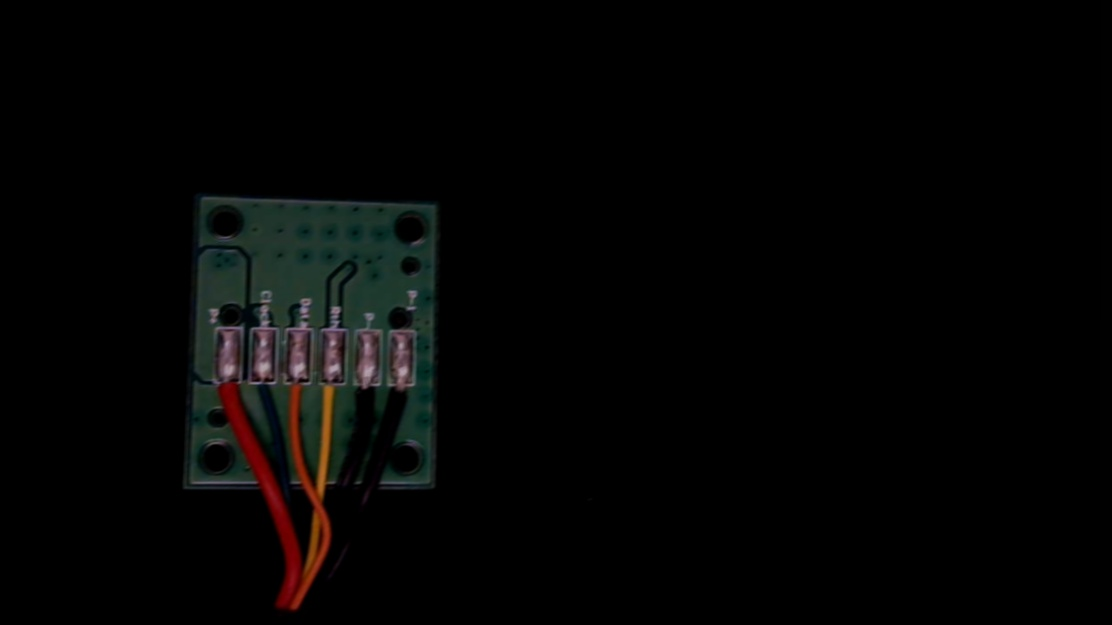Black: (353, 369, 380, 427)
Black1: (389, 367, 418, 426)
Green: (249, 364, 277, 418)
Orange: (283, 365, 311, 429)
Red: (213, 364, 242, 415)
Yellow: (317, 366, 347, 432)
